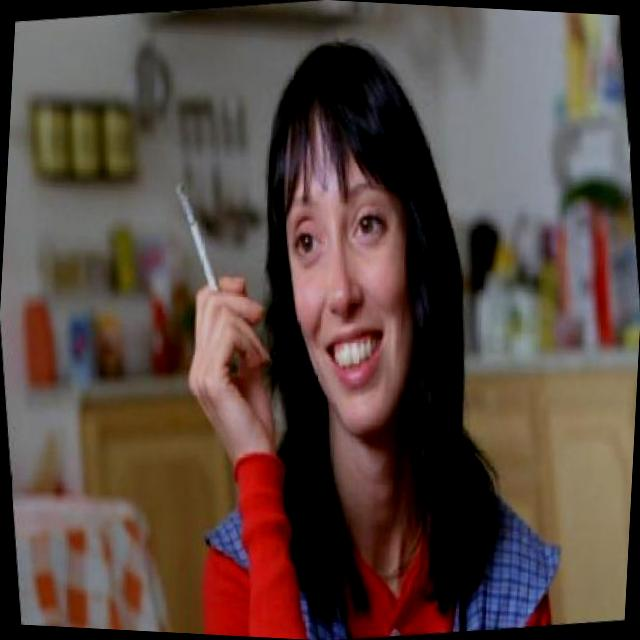smoke: (168, 174, 231, 300)
